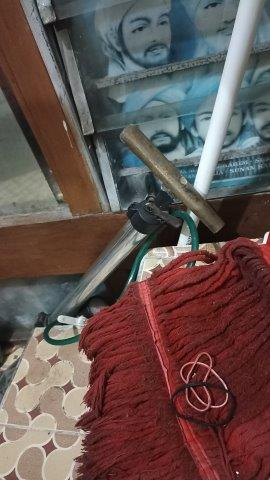karet: (169, 352, 236, 427)
